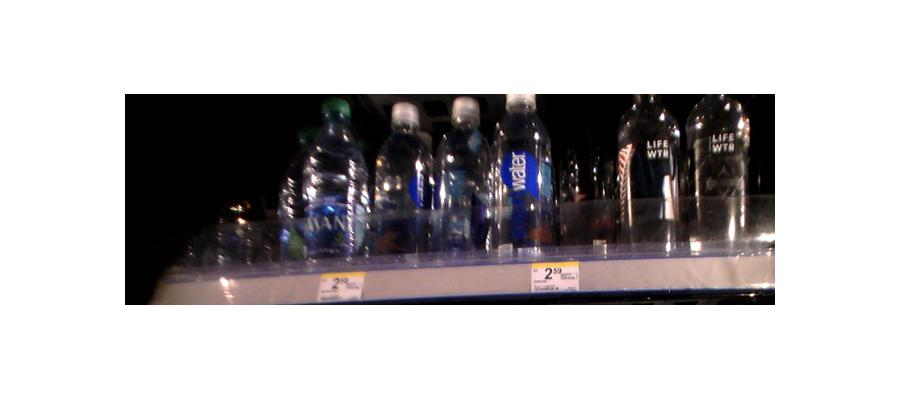bottle: (291, 96, 368, 270), (488, 94, 555, 257), (686, 92, 751, 253), (619, 92, 684, 252), (369, 104, 434, 262), (432, 101, 490, 260), (559, 112, 619, 251), (208, 171, 260, 263)
